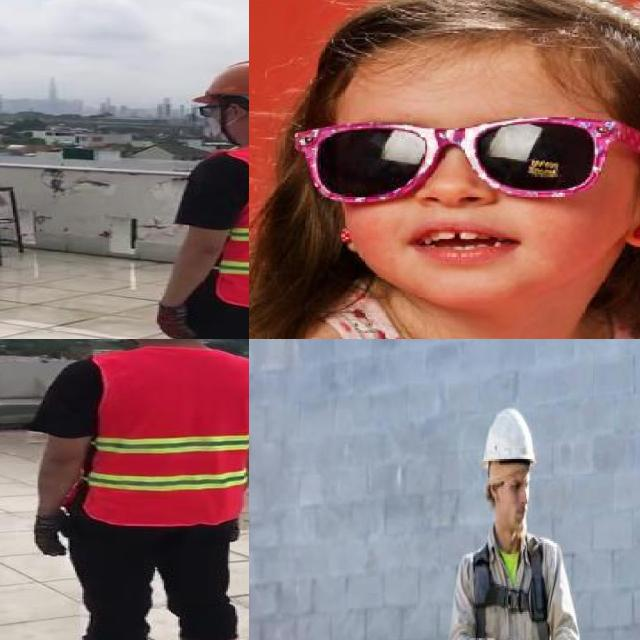Harness: (473, 540, 548, 640)
face_nomask: (311, 114, 603, 288)
glasses: (285, 105, 640, 194)
hand_glove: (32, 509, 74, 556), (153, 304, 194, 339)
head_helmet: (189, 58, 249, 106)
head_nohelmet: (323, 0, 640, 84)
person: (249, 0, 640, 339), (21, 339, 249, 640), (135, 50, 249, 339)
vest: (82, 349, 249, 525), (219, 143, 249, 309)
